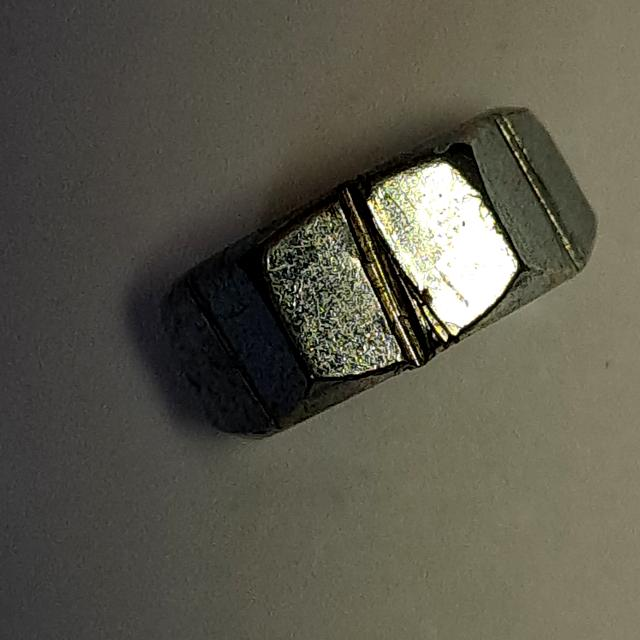Side_Scratches: (145, 96, 609, 455)
